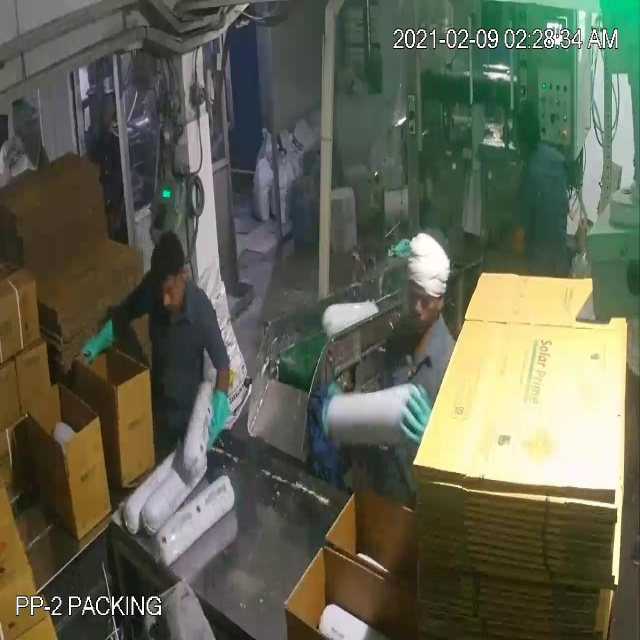Guantes: (194, 371, 232, 452), (399, 380, 435, 457), (79, 310, 118, 371)
